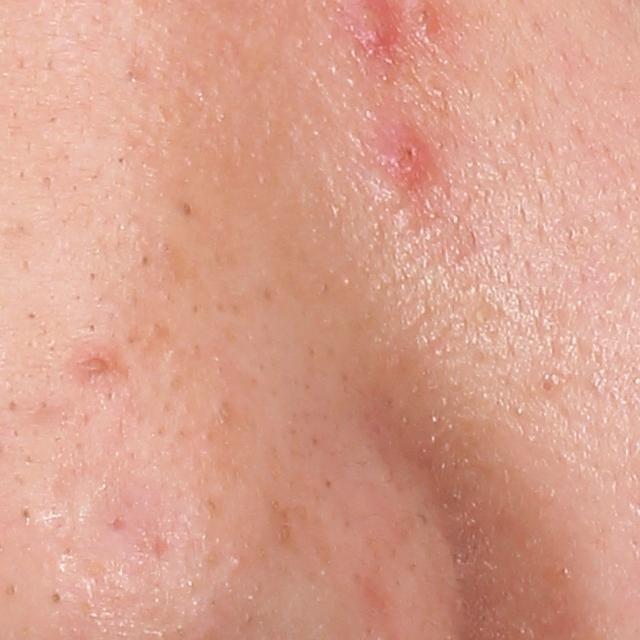comedo: (225, 554, 245, 576), (45, 588, 65, 608)
